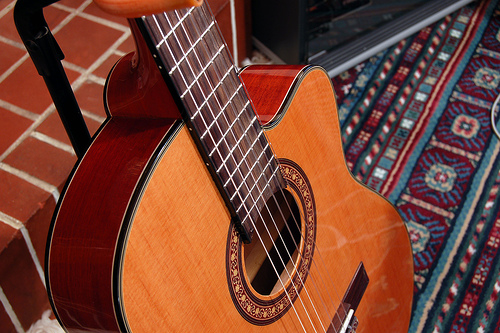guitar: (40, 1, 418, 333)
